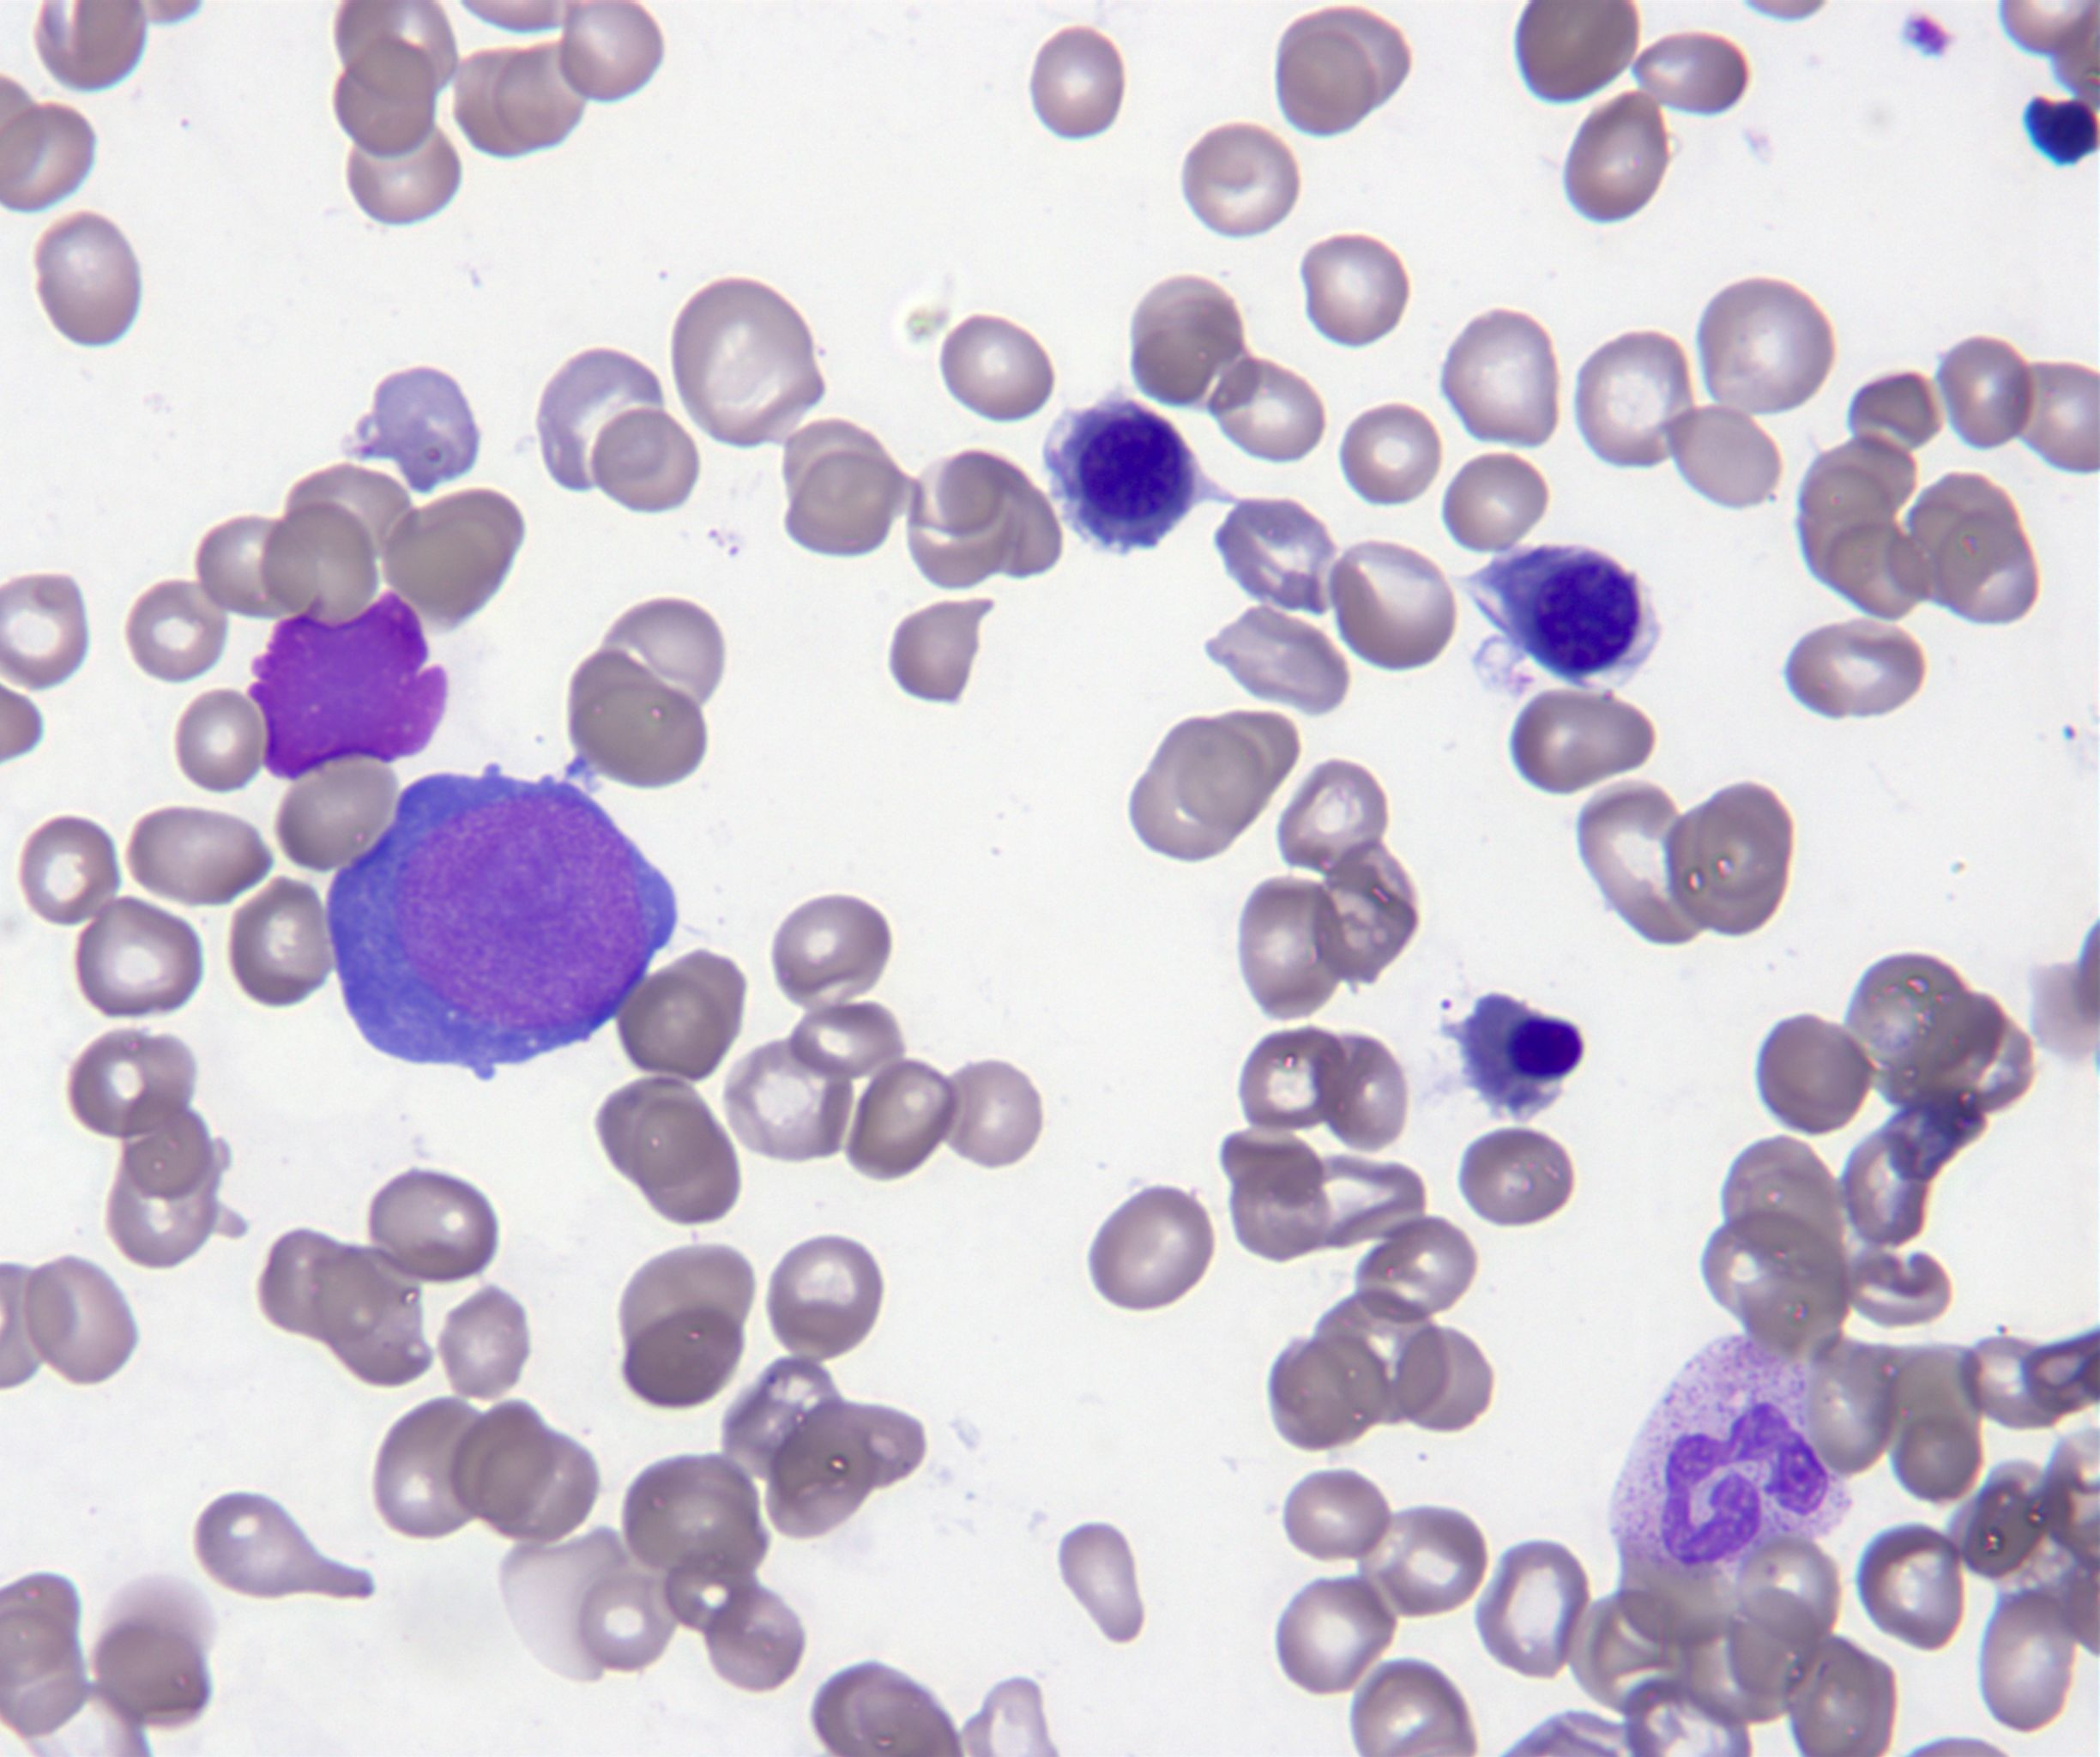21: (324, 771, 680, 1080)
24: (1045, 389, 1238, 553), (1458, 546, 1664, 693), (1441, 988, 1587, 1127)
6: (1608, 1331, 1852, 1581)
x: (249, 591, 447, 780)
